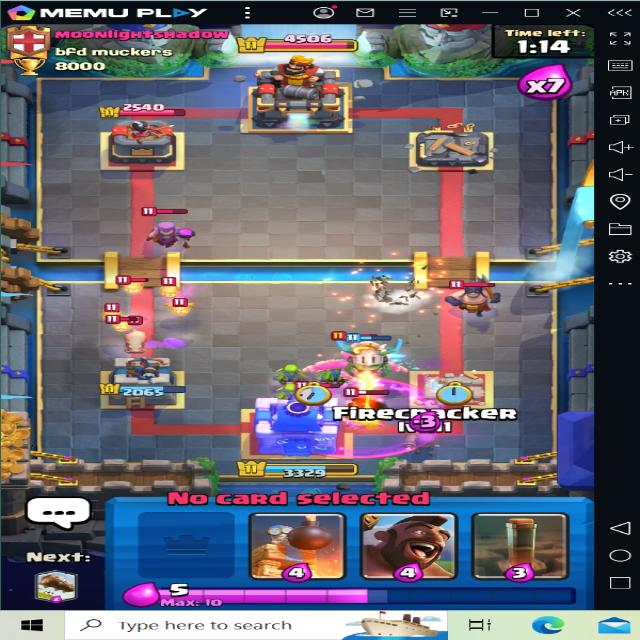executioner: (439, 280, 496, 321)
mother-witch: (137, 202, 202, 252)
pig: (115, 318, 158, 352)
rage: (286, 380, 445, 455)
